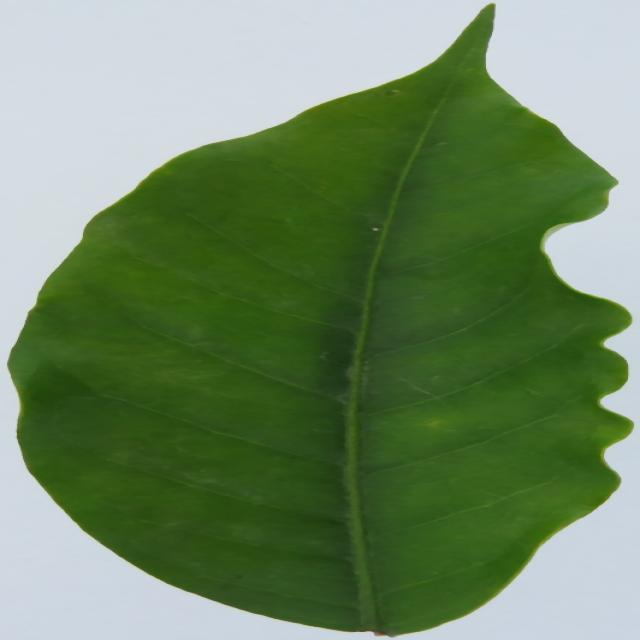DeficienciaNutricional-Calcio: (10, 6, 630, 636)
